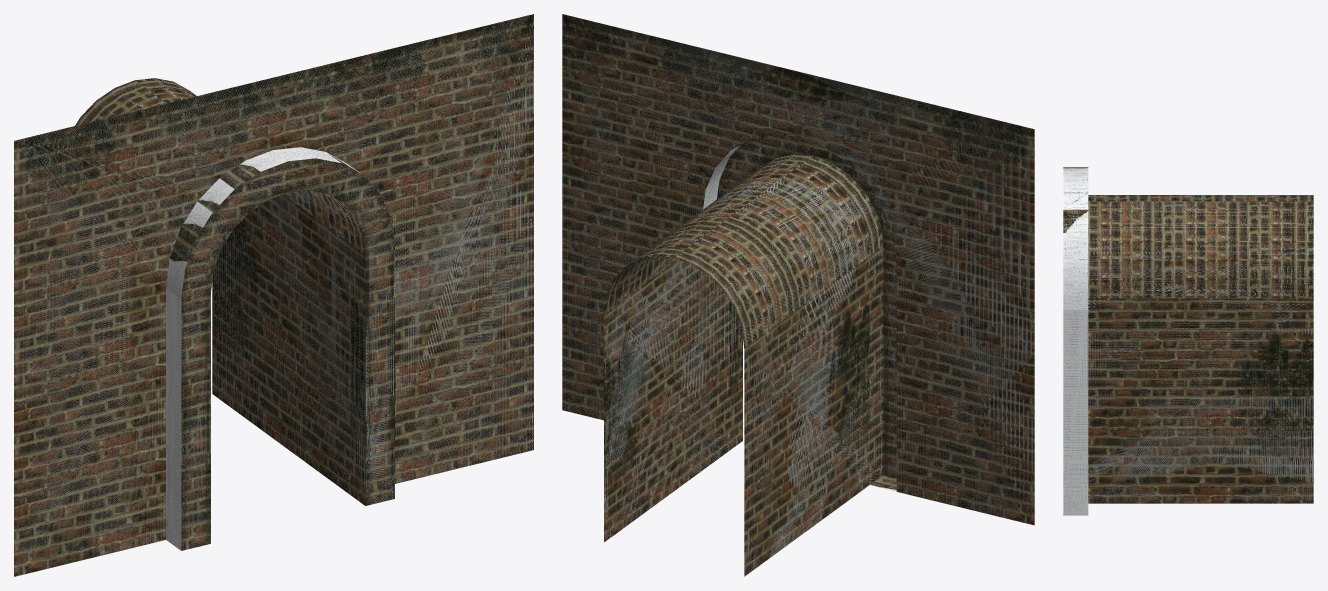
The model's file is arka.dae.
3 views of the same model, side by side, from view 1: azimuth 30°, elevation 25°; view 2: azimuth 150°, elevation 25°; view 3: azimuth 270°, elevation 25° (orthographic). The views are drawn at different scales.
Visible parts, largest first — view 1: SketchUp (×6); view 2: SketchUp (×13); view 3: SketchUp (×9).
Part boxes in pixels (left/top/right/bottom): SketchUp (×6): left=14, top=14, right=533, bottom=576; SketchUp (×13): left=562, top=14, right=1034, bottom=576; SketchUp (×9): left=1063, top=167, right=1313, bottom=515.
Bounding box in the file's own units: 264 × 135 × 211.
Materials: 16 (15 with a texture image).
